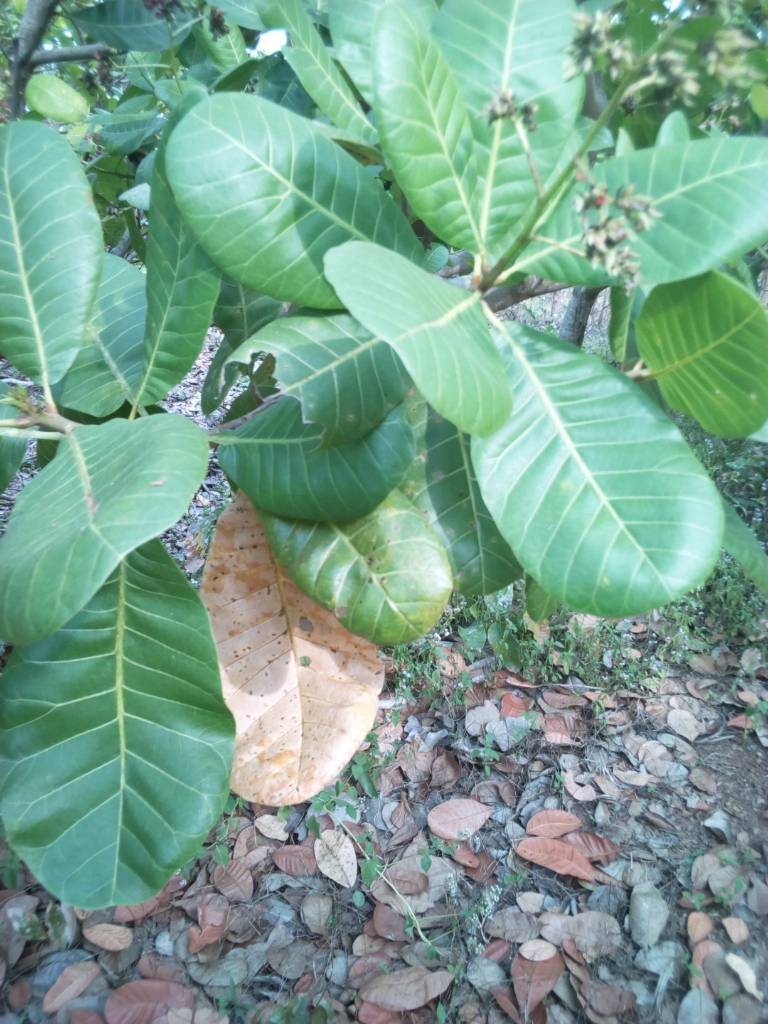Helopeltis anacardii: (219, 319, 388, 438), (287, 533, 460, 632)
